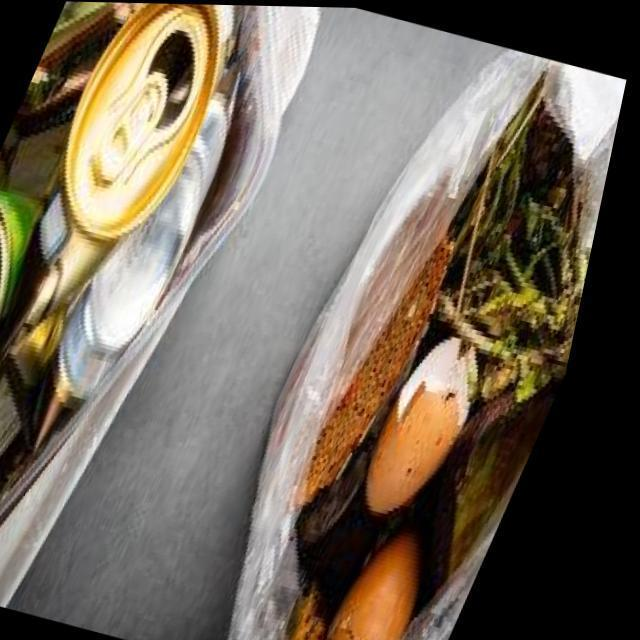Garbage: (298, 68, 603, 640), (0, 1, 265, 532)
Metal: (0, 2, 241, 477)
contaminated_waste: (76, 95, 235, 400), (71, 2, 219, 237), (0, 196, 54, 359)
